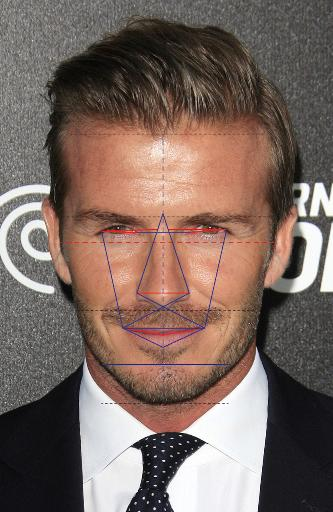left_eye: (189, 223, 232, 238)
left_lip_corner: (192, 318, 207, 338)
right_eye: (97, 222, 140, 240)
right_lip_corner: (119, 320, 136, 337)
